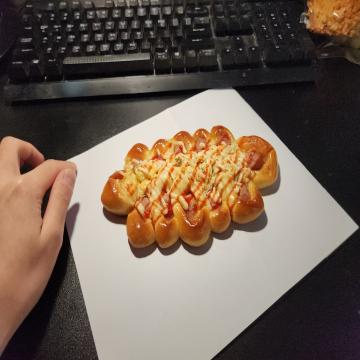pizza_bread: (100, 125, 279, 249)
